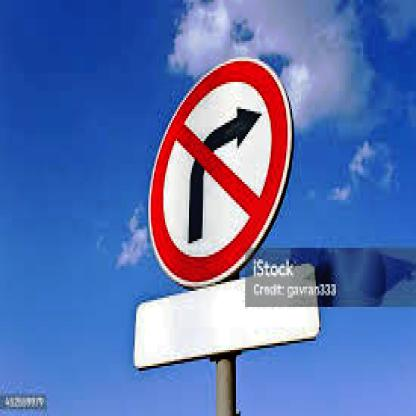No right turn: (150, 61, 277, 268)
